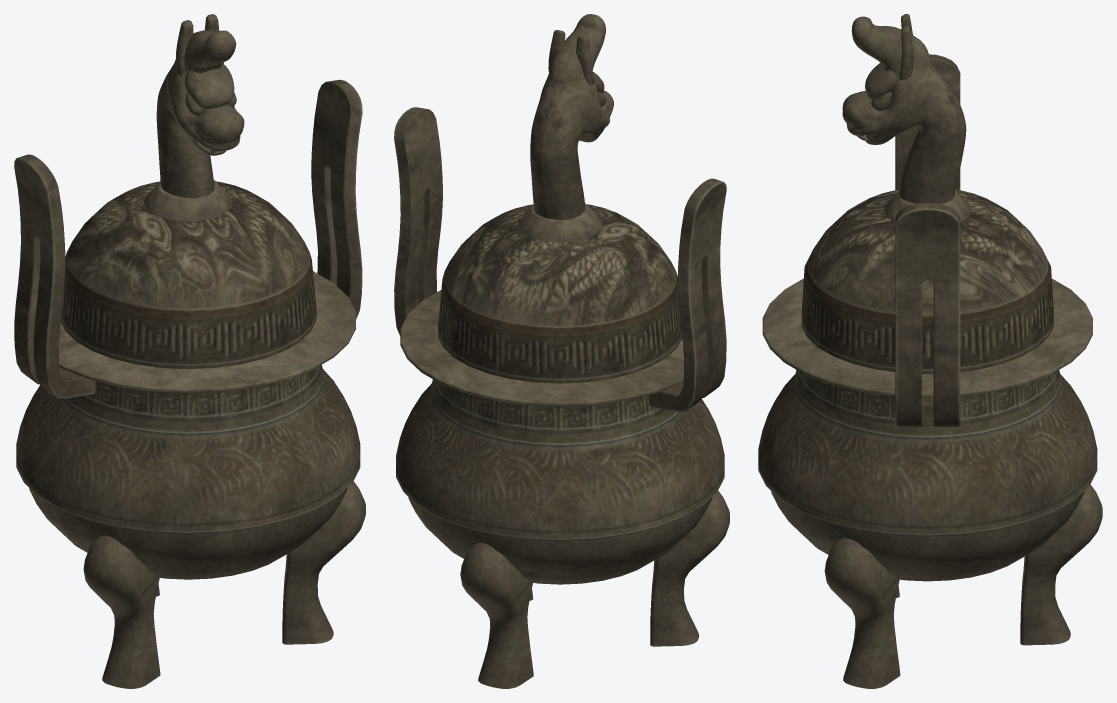
File: hyangro.glb
3 views of the same model, side by side, from view 1: azimuth 30°, elevation 25°; view 2: azimuth 150°, elevation 25°; view 3: azimuth 270°, elevation 25° (orthographic). The views are drawn at different scales.
Visible parts, largest first — view 1: SM_GJJ_incenseburnerB; view 2: SM_GJJ_incenseburnerB; view 3: SM_GJJ_incenseburnerB.
Part boxes in pixels (box(x1,y1,x2,y2)): SM_GJJ_incenseburnerB: box(14, 14, 365, 688); SM_GJJ_incenseburnerB: box(394, 14, 729, 688); SM_GJJ_incenseburnerB: box(758, 14, 1102, 688).
Size of the model in its own units: 0.2207 by 0.4097 by 0.207.
Materials: 1 (1 with a texture image).
